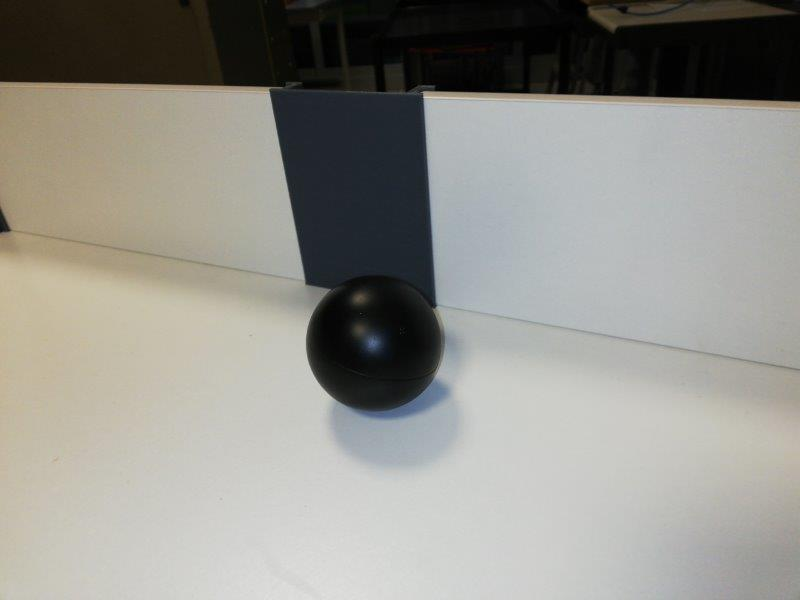nera: (304, 273, 446, 410)
